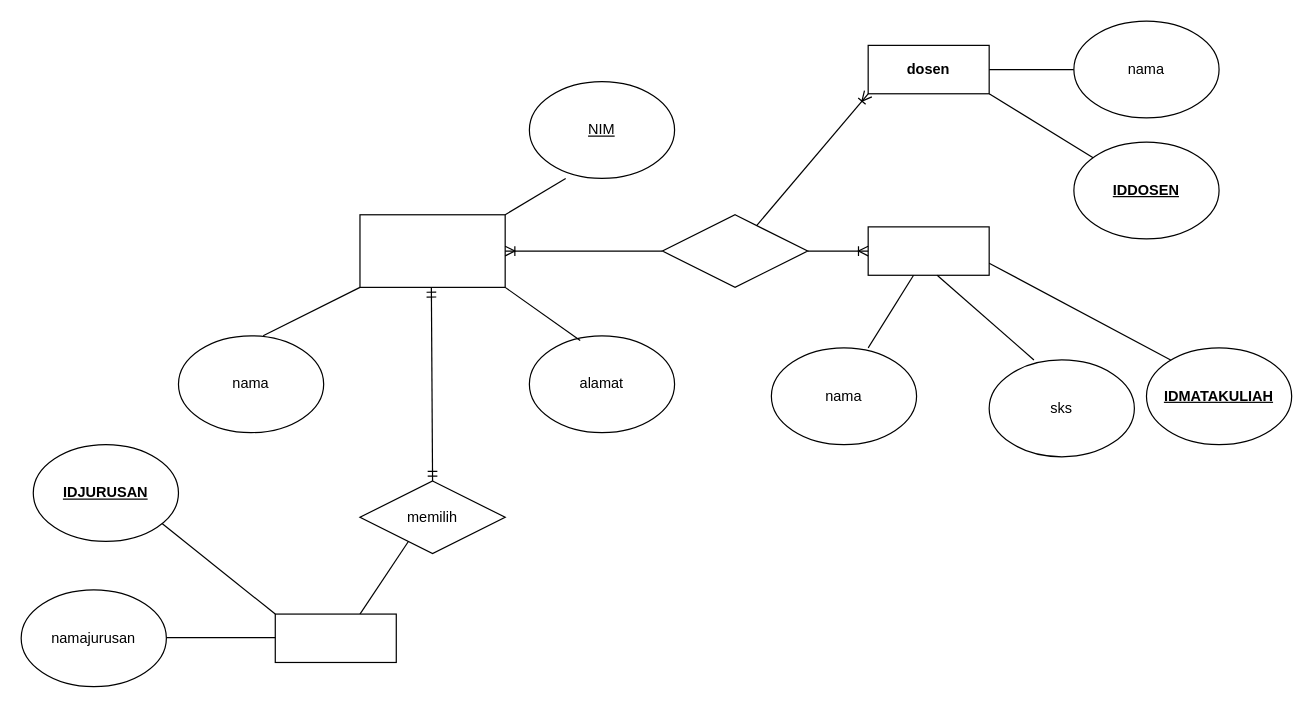
The diagram is 1313 pixels wide and 708 high, and some of its shapes have lost their labels. Here are the shapes that lost their labels. From the top down, the centre of each, then its label:
At point 432,250: "mahasiswa".
At point 734,250: "mengikuti".
At point 928,250: "matakuliah".
At point 335,637: "jurusan".
